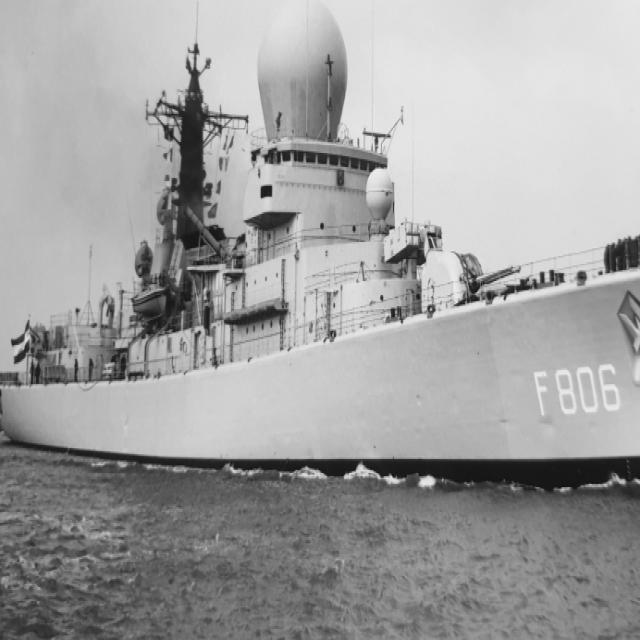Fragata: (1, 1, 640, 479)
